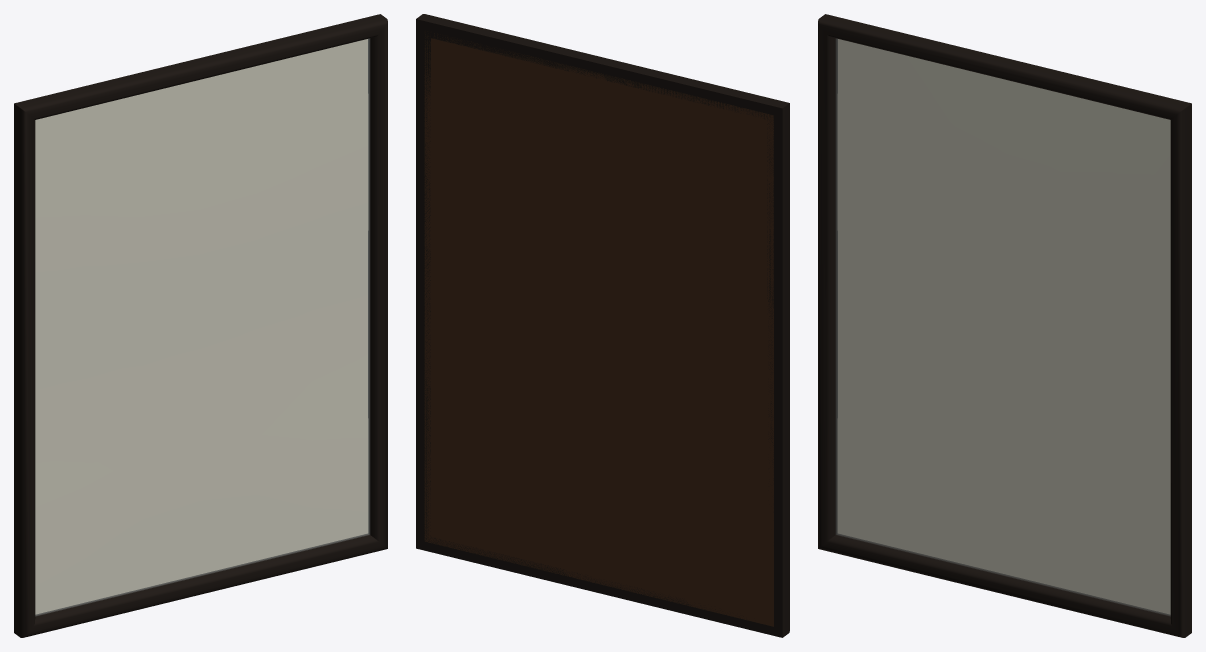
Rendered from poster_frame.glb.
The picture shows the model from 3 angles, left to right: view 1: azimuth 30°, elevation 25°; view 2: azimuth 150°, elevation 25°; view 3: azimuth 330°, elevation 25°; orthographic projection.
Visible parts, largest first — view 1: poster_glass, poster_paper, poster_frame_body; view 2: poster_frame_body; view 3: poster_glass, poster_paper, poster_frame_body.
Part boxes in pixels (x1=…): poster_glass: x1=35, y1=38, x2=369, y2=615; poster_paper: x1=35, y1=39, x2=368, y2=614; poster_frame_body: x1=14, y1=14, x2=387, y2=637; poster_frame_body: x1=416, y1=14, x2=789, y2=637; poster_glass: x1=836, y1=38, x2=1170, y2=615; poster_paper: x1=837, y1=39, x2=1170, y2=614; poster_frame_body: x1=818, y1=14, x2=1191, y2=637.
Bounding box in the file's own units: 0.544 × 0.751 × 0.024.
